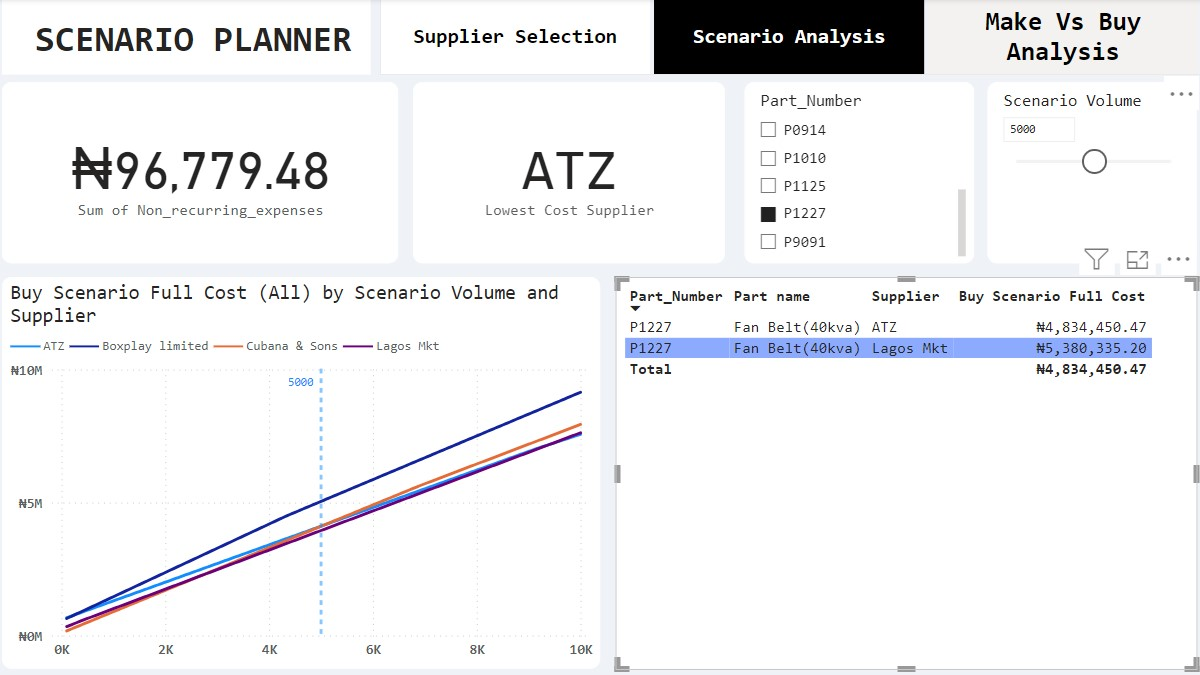

What the dashboard file says about the page in this screenshot:
{"tool":"powerbi","page":{"name":"Scenario Analysis","canvas":[1280,720],"ordinal":1},"visuals":[{"type":"slicer","fields":{"Values":["Scenario Volume.Scenario Volume"]},"box":[1043.6,87.4,216.8,187.7],"z":0},{"type":"textbox","box":[21,0,381.8,79.3],"z":1000},{"type":"slicer","fields":{"Values":["Quote.Part_Number"]},"box":[791.2,87.4,237.8,187.7],"z":2000},{"type":"card","fields":{"Values":["Sum(Quote.Non_recurring_expenses)"]},"box":[21,87.4,411,187.7],"z":3000},{"type":"lineChart","fields":{"Category":["Scenario Volumes (All).Scenario Volume"],"Y":["Scenario Volumes (All).Full Cost (All)"],"Series":["Quote.Supplier"]},"box":[21,289.6,619.7,406.1],"z":4000},{"type":"tableEx","fields":{"Values":["Quote.Part_Number","Quote.Part name","Quote.Supplier","Scenario Volume.Scenario Full Cost"]},"box":[656.9,289.6,603.5,406.1],"z":5000},{"type":"card","fields":{"Values":["Min(Quote.Supplier)"]},"box":[448.2,87.4,323.6,187.7],"z":6000},{"type":"pageNavigator","box":[414.2,0,849.4,79.3],"z":7000}]}

Visuals, with their boxes in screenshot pixels (x1, y1, x2, y2), scaled from the page's 1280x720 canvas onto the 1200x675 screenshot:
slicer - Scenario Volume.Scenario Volume: <box>978,82,1182,258</box>
textbox: <box>20,0,378,74</box>
slicer - Quote.Part_Number: <box>742,82,965,258</box>
card - Sum(Quote.Non_recurring_expenses): <box>20,82,405,258</box>
lineChart - Scenario Volumes (All).Scenario Volume x Scenario Volumes (All).Full Cost (All): <box>20,272,601,652</box>
tableEx - Quote.Part_Number x Quote.Part name: <box>616,272,1182,652</box>
card - Min(Quote.Supplier): <box>420,82,724,258</box>
pageNavigator: <box>388,0,1185,74</box>
